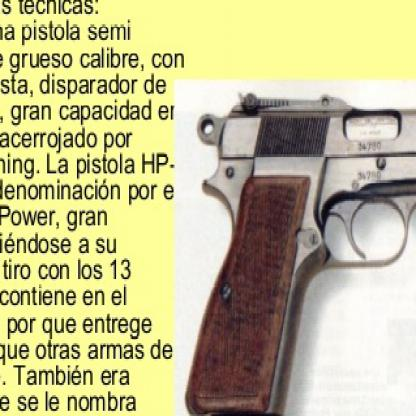gun: (189, 87, 415, 414)
